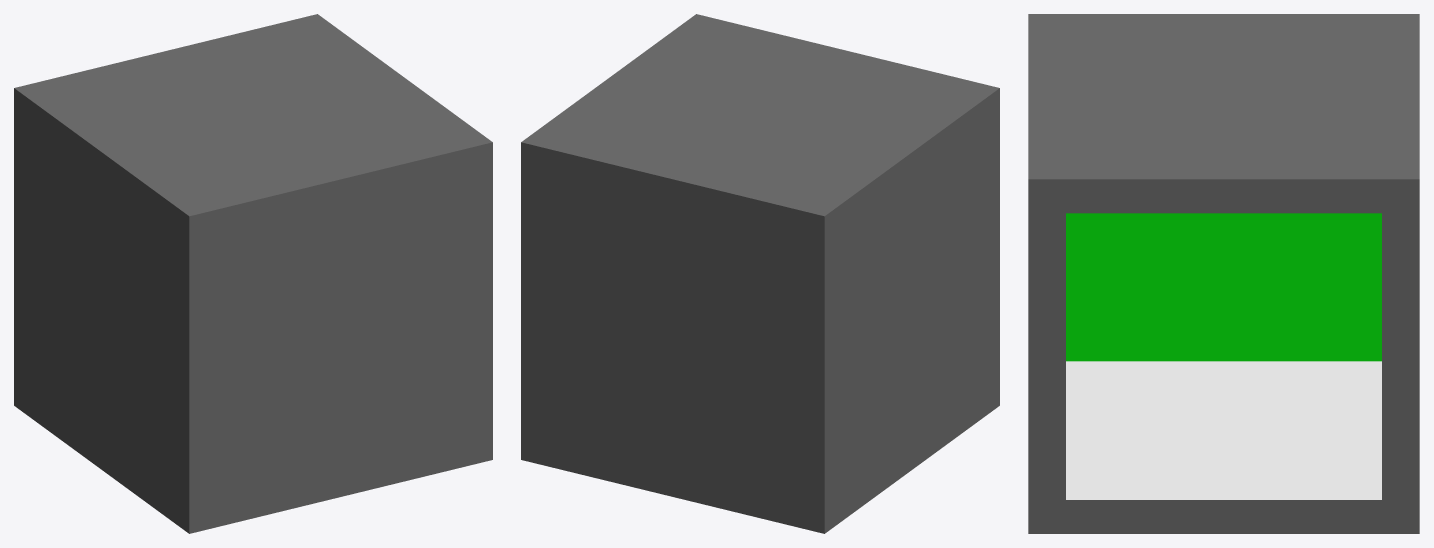
The picture shows the model from 3 angles, left to right: view 1: azimuth 30°, elevation 25°; view 2: azimuth 150°, elevation 25°; view 3: azimuth 270°, elevation 25°; orthographic projection. The views are drawn at different scales.
Parts seen in each view (by area): view 1: Cube; view 2: Cube; view 3: Cube.
Boxes of the visible parts, x1,y1,x2,y2 form: Cube: [14, 14, 492, 533]; Cube: [521, 14, 999, 533]; Cube: [1028, 14, 1419, 533].
Bounding box in the file's own units: 5.15 × 5.15 × 5.15.
